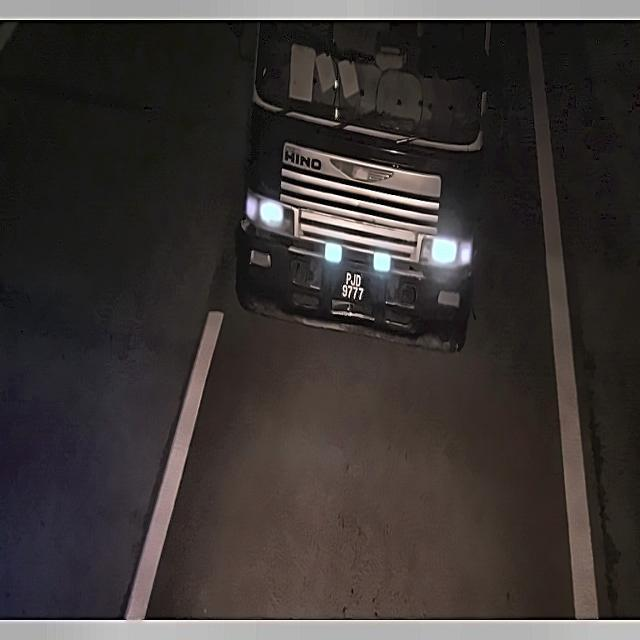car: (337, 264, 369, 310)
